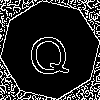Q: (25, 25, 71, 80)
